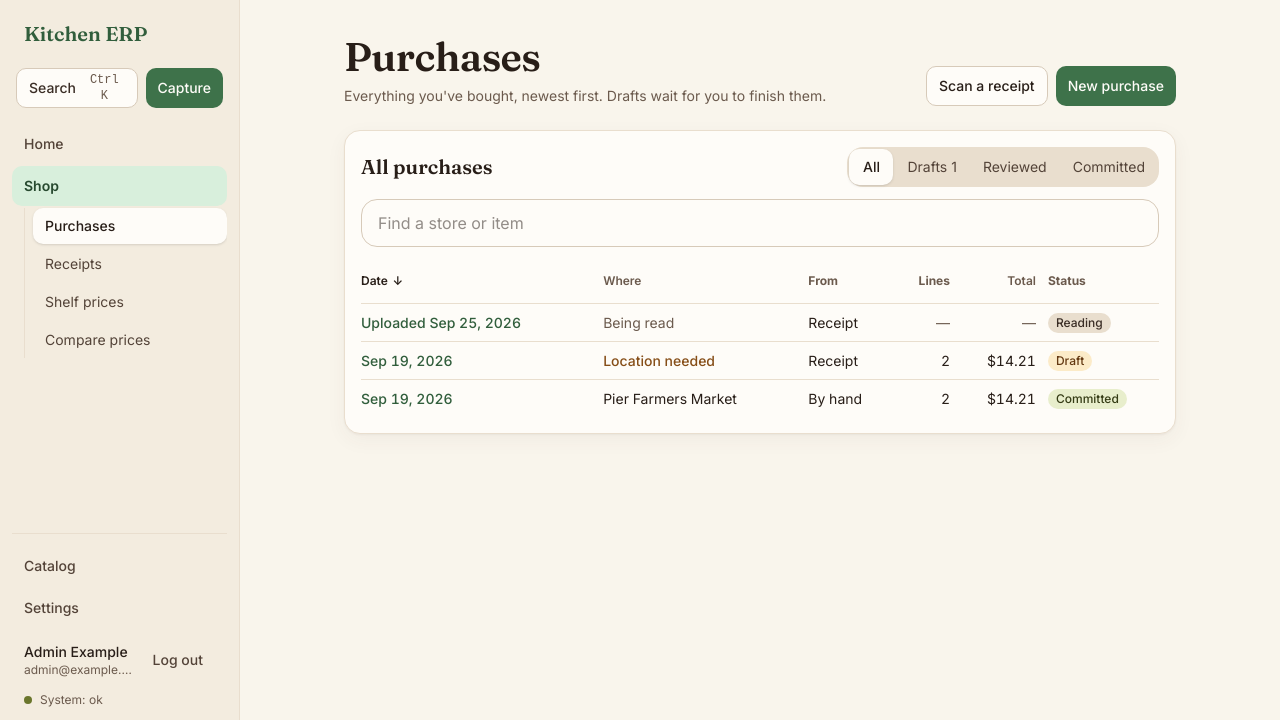
Test case: purchases: receipts being read and drafts (G1, spec 10) › leaves receipts being read out of Reviewed and Committed
The width and height of the screenshot is (1280, 720).
expect the row with test id "reading-row" is shown: met, box [361,304,1159,342]
Click the button "Committed" at [1109, 167], box [1061,149,1157,185]
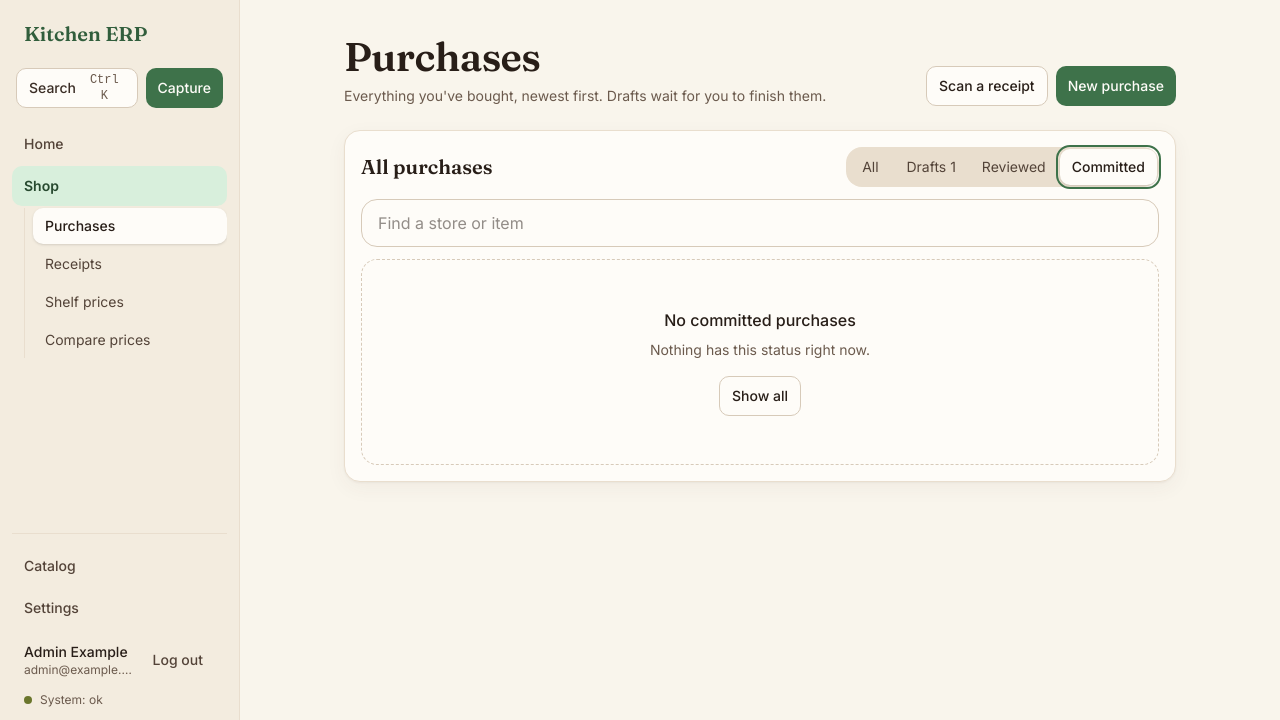
expect the element "No committed purchases" is shown: met, box [361,259,1159,465]
expect the row with test id "reading-row" is gone: met
